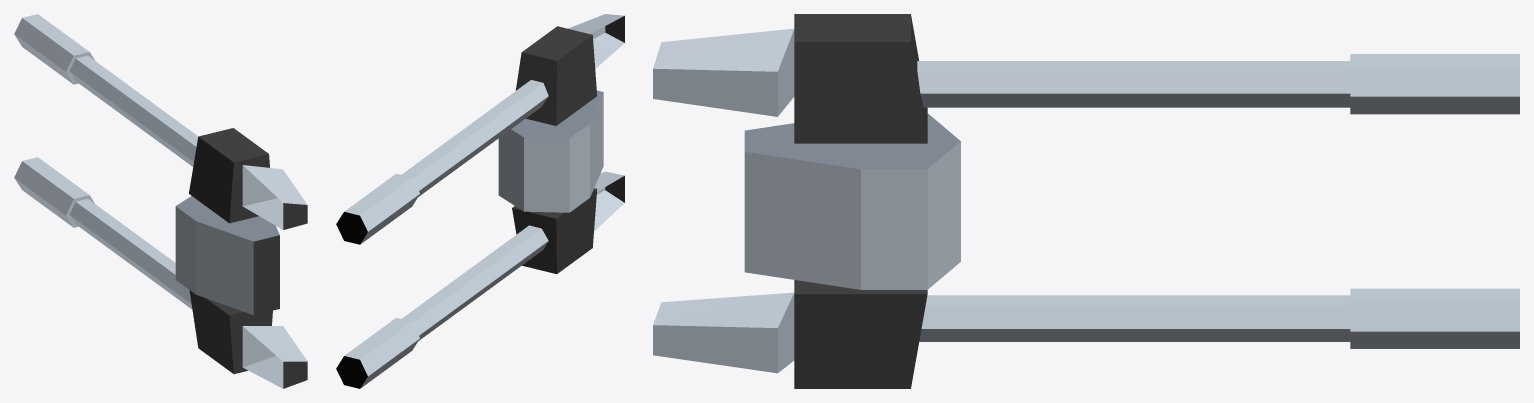
File: tankhou1.FBX
3 views of the same model, side by side, from view 1: azimuth 30°, elevation 25°; view 2: azimuth 150°, elevation 25°; view 3: azimuth 270°, elevation 25° (orthographic). The views are drawn at different scales.
Visible parts, largest first — view 1: VIFS002, VIFS001, VIFS003; view 2: VIFS002, VIFS001, VIFS003, VIFS004; view 3: VIFS002, VIFS001, VIFS003.
Boxes of the visible parts, x1,y1,x2,y2 form: VIFS002: (14,14,307,388); VIFS001: (189,128,307,388); VIFS003: (176,196,279,241); VIFS002: (344,14,624,388); VIFS001: (512,16,624,273); VIFS003: (511,90,603,138); VIFS004: (336,212,367,388); VIFS002: (653,28,1519,373); VIFS001: (794,14,927,388); VIFS003: (744,113,960,169).
Bounding box in the file's own units: 0.172 × 0.4946 × 1.12.
